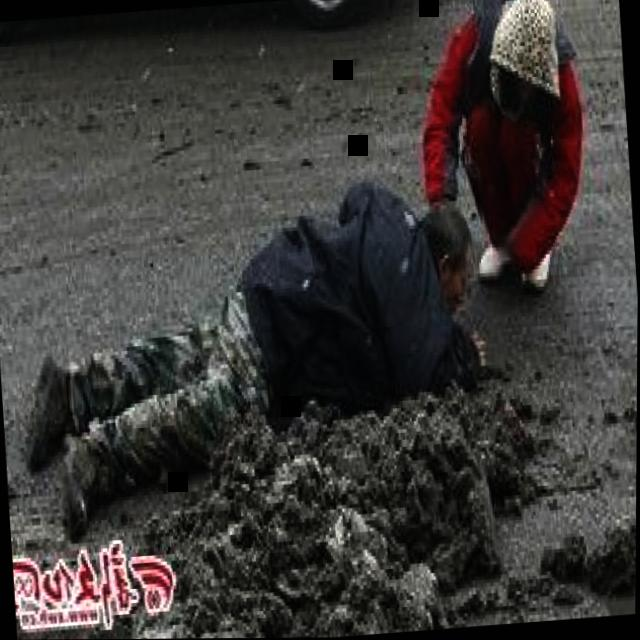Fall-Detected: (7, 151, 524, 543)
